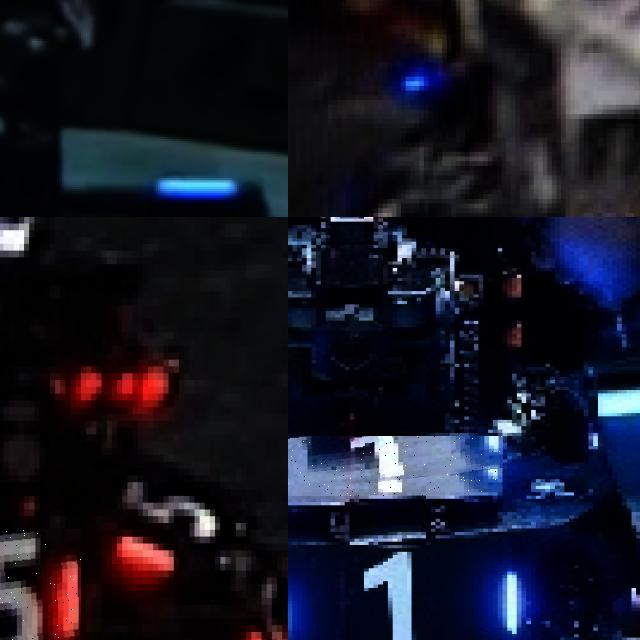B1: (288, 545, 521, 640), (288, 436, 502, 495), (321, 180, 449, 217)
R5: (0, 529, 81, 640)
